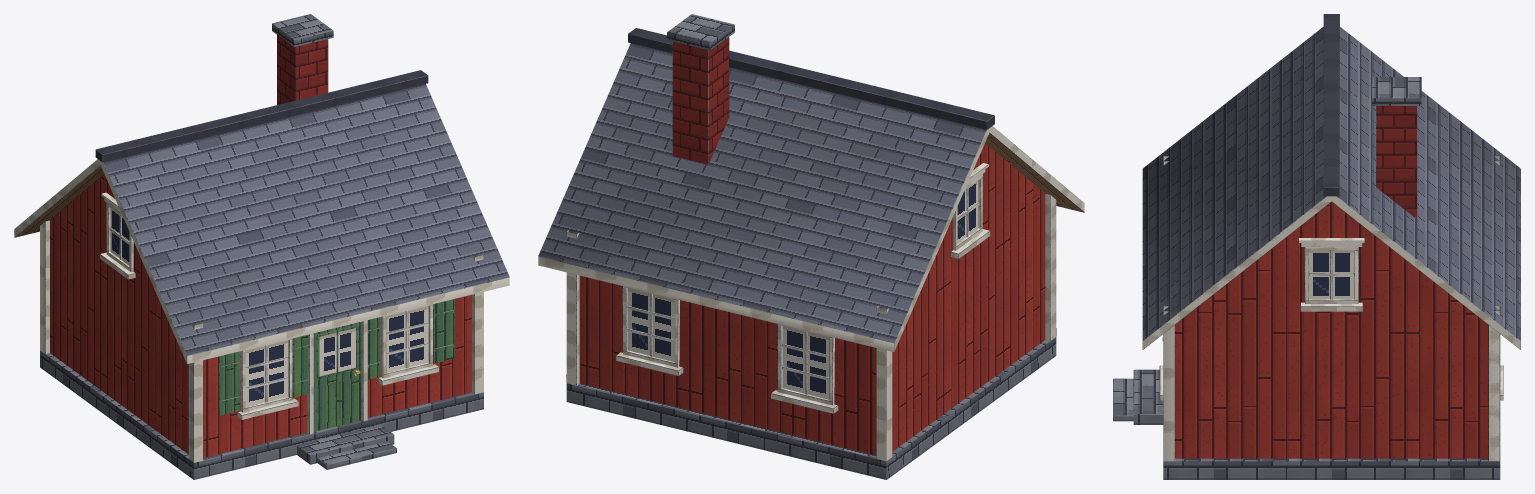
The model's file is town_house_10.glb.
The picture shows the model from 3 angles, left to right: view 1: azimuth 30°, elevation 25°; view 2: azimuth 150°, elevation 25°; view 3: azimuth 270°, elevation 25°; orthographic projection. The views are drawn at different scales.
Visible parts, largest first — view 1: town_house_11; view 2: town_house_11; view 3: town_house_11.
Boxes of the visible parts, <box> form: town_house_11: <box>14,14,509,479</box>; town_house_11: <box>538,14,1084,479</box>; town_house_11: <box>1113,14,1520,479</box>.
Size of the model in its own units: 6.96 by 6.58 by 6.9.
10 materials, 10 textured.
